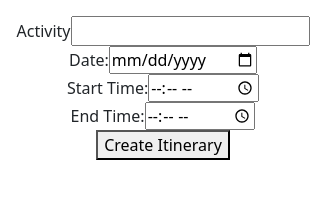
Test: CreateItinerary Component › displays an error for a past date
This screenshot has width=327, height=217.
Type "Test Activity" into the field.
click(190, 31); type("Test Activity")  # box [70,16,310,46]
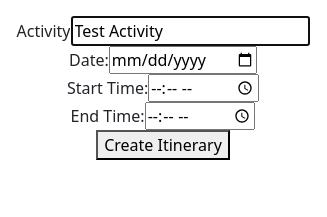
Type "2020-01-01" into the date field.
click(183, 60); type("2020-01-01")  # box [109,46,257,74]
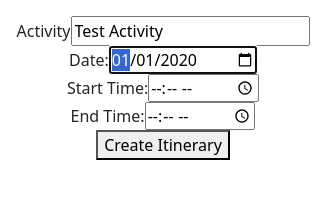
Click the button.
click(163, 145)  # box [96,130,230,160]
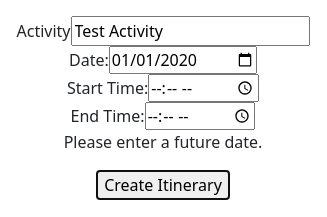
Expected: the text "Please enter a future date." is shown, [64,131,262,153]
